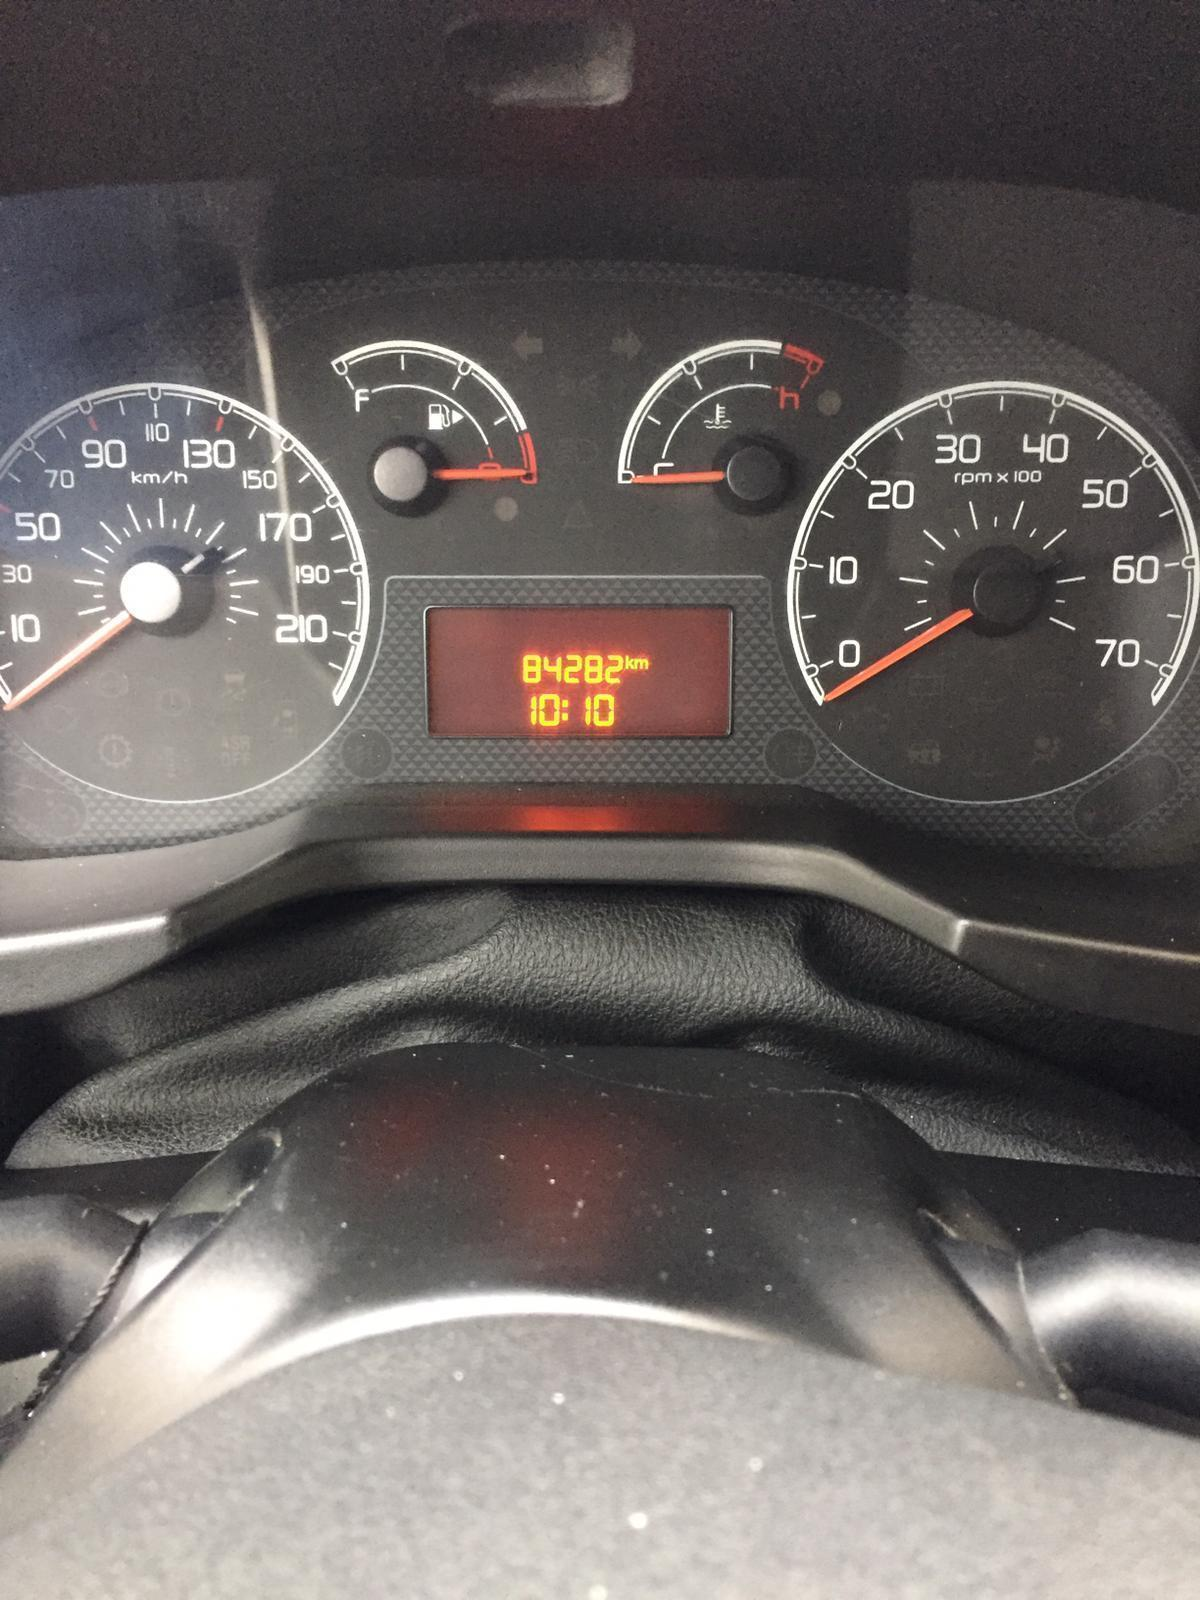0: (592, 692, 614, 728), (538, 690, 560, 727)
1: (527, 693, 538, 726), (584, 694, 592, 728)
2: (604, 653, 623, 687), (563, 653, 582, 687)
4: (542, 653, 562, 683)
8: (521, 653, 542, 685), (584, 651, 603, 685)
X: (634, 656, 650, 673), (560, 697, 568, 722), (624, 653, 635, 671)
odometer: (422, 602, 737, 746)
